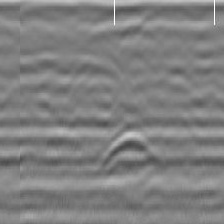Utility: (98, 129, 164, 175)
